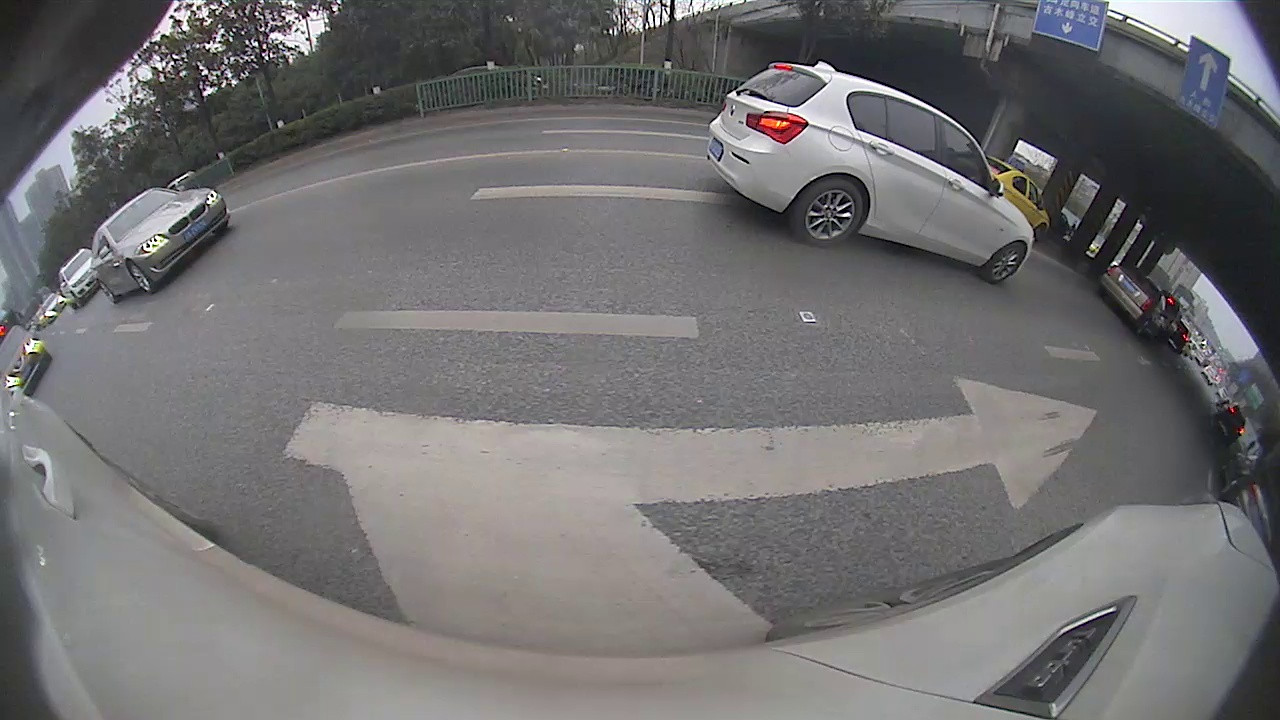car: (704, 60, 1036, 285), (89, 185, 232, 304), (982, 152, 1051, 241), (1099, 262, 1160, 336), (2, 324, 55, 397), (58, 246, 102, 310)
front: (984, 240, 1028, 284), (126, 258, 154, 295)
rear: (796, 176, 866, 247), (99, 279, 117, 304)
